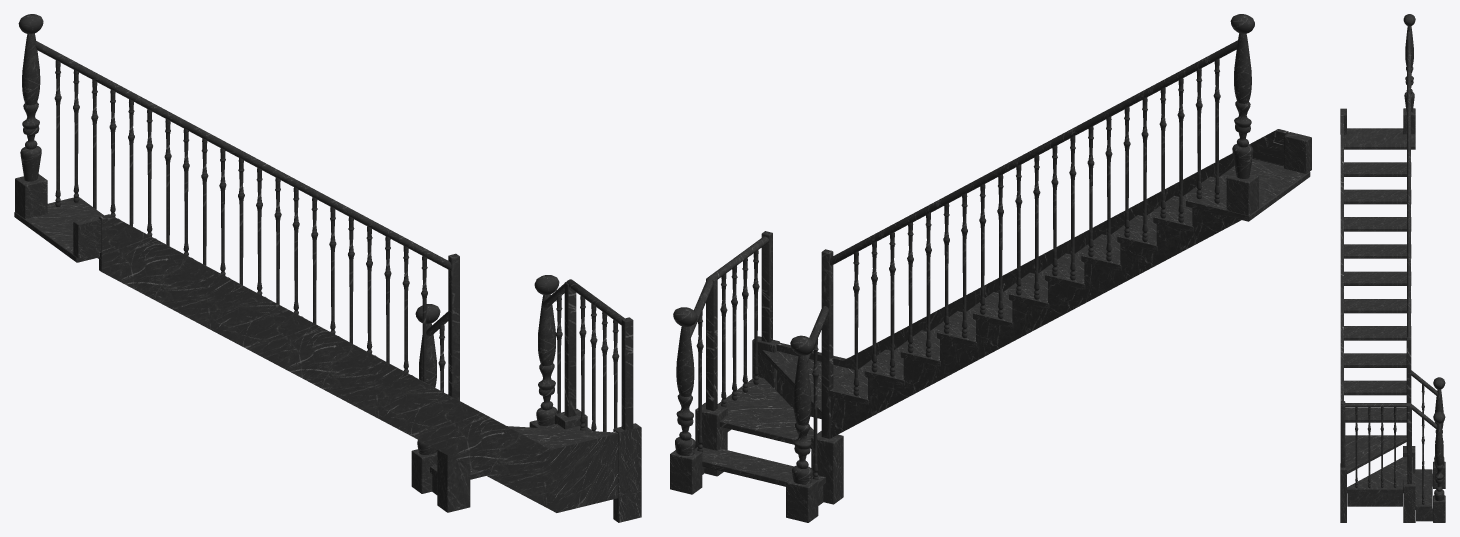
Rendered from Scala.fbx.
The picture shows the model from 3 angles, left to right: view 1: azimuth 30°, elevation 25°; view 2: azimuth 150°, elevation 25°; view 3: azimuth 270°, elevation 25°; orthographic projection. The views are drawn at different scales.
Parts seen in each view (by area): view 1: Scala_Casa Van Gogh; view 2: Scala_Casa Van Gogh; view 3: Scala_Casa Van Gogh.
Part boxes in pixels (x1,y1,x2,y2): Scala_Casa Van Gogh: (14, 14, 641, 522); Scala_Casa Van Gogh: (670, 14, 1311, 522); Scala_Casa Van Gogh: (1340, 14, 1445, 522).
Bounding box in the file's own units: 2074 × 2085 × 568.
